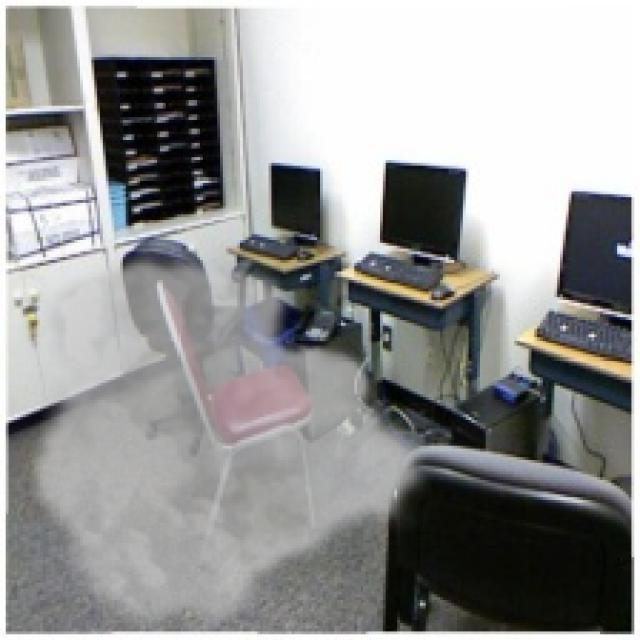smoke: (26, 249, 431, 637)
